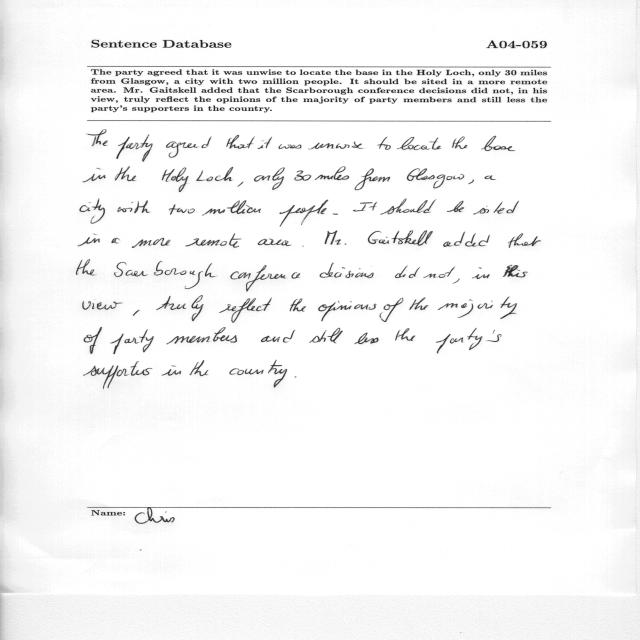word: (114, 261, 217, 289), (84, 362, 152, 390), (231, 265, 301, 292), (438, 296, 517, 319), (436, 328, 502, 353), (229, 360, 287, 387), (219, 297, 272, 323), (280, 200, 329, 227), (167, 328, 237, 345), (156, 296, 203, 321), (318, 301, 376, 321), (407, 169, 464, 189), (110, 329, 154, 354), (116, 135, 153, 162), (166, 136, 211, 158), (368, 231, 433, 246), (202, 200, 261, 216), (381, 199, 437, 215), (185, 233, 242, 248), (320, 263, 374, 278), (355, 169, 391, 191), (254, 167, 285, 190), (443, 232, 490, 247), (162, 168, 189, 193), (473, 201, 519, 215), (80, 199, 105, 224), (380, 298, 404, 322), (397, 137, 441, 150), (197, 167, 234, 181), (482, 136, 516, 151), (309, 328, 343, 343), (508, 233, 541, 248), (84, 327, 102, 354), (315, 167, 349, 180), (261, 330, 295, 343), (310, 142, 364, 150), (117, 200, 150, 213), (226, 135, 255, 149), (132, 238, 171, 248), (83, 301, 123, 310), (424, 267, 455, 278), (88, 130, 108, 147), (395, 265, 420, 278), (83, 168, 106, 182), (115, 167, 136, 182), (325, 230, 346, 245), (77, 260, 96, 276), (190, 360, 209, 376), (503, 265, 528, 277), (169, 204, 195, 215), (354, 333, 379, 344), (78, 234, 100, 246), (409, 297, 429, 310), (395, 328, 415, 341), (258, 239, 292, 246), (162, 365, 182, 376), (353, 202, 377, 211), (472, 267, 490, 279), (290, 299, 306, 312), (452, 136, 467, 149), (295, 170, 312, 181), (447, 201, 464, 212), (377, 137, 391, 150), (258, 137, 272, 149), (279, 144, 302, 149), (485, 175, 496, 180), (112, 238, 121, 243), (133, 310, 140, 316), (452, 279, 460, 284), (238, 182, 244, 187), (468, 180, 474, 184), (333, 213, 338, 215), (295, 376, 297, 378), (302, 246, 304, 246)
